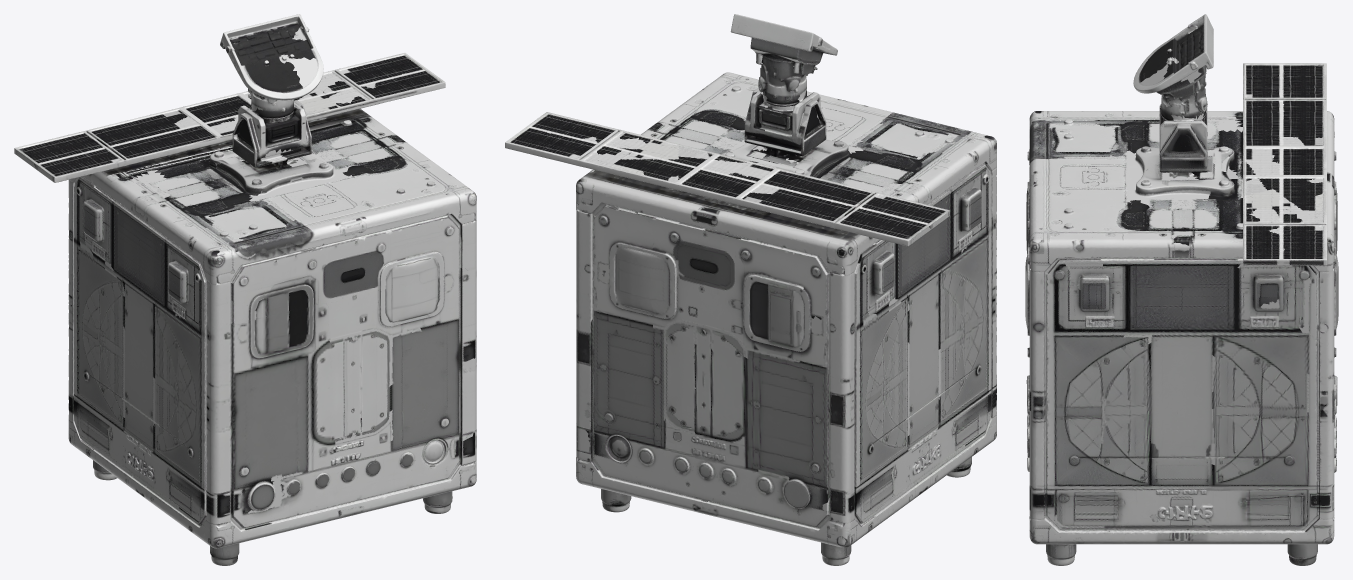
Rendered from space-sat-comm.glb.
3 views of the same model, side by side, from view 1: azimuth 30°, elevation 25°; view 2: azimuth 150°, elevation 25°; view 3: azimuth 270°, elevation 25° (orthographic). The views are drawn at different scales.
Size of the model in its own units: 1.69 by 1.9 by 1.14.
1 material, 1 textured.
